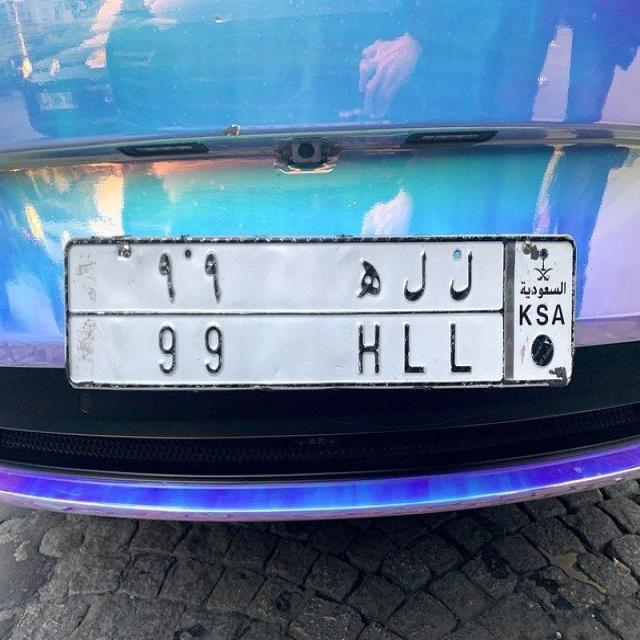license_plate: (86, 222, 546, 392)
